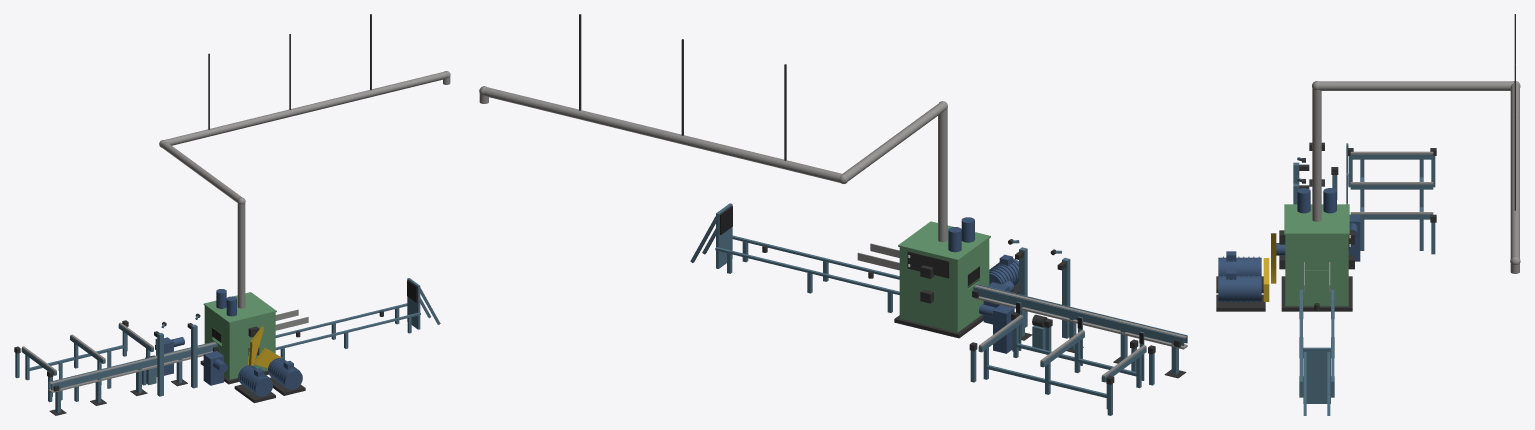
Rendered from gang_resaw_frame.glb.
3 views of the same model, side by side, from view 1: azimuth 30°, elevation 25°; view 2: azimuth 150°, elevation 25°; view 3: azimuth 270°, elevation 25° (orthographic). The views are drawn at different scales.
Parts seen in each view (by area): view 1: GR_FrameMesh; view 2: GR_FrameMesh; view 3: GR_FrameMesh.
Part boxes in pixels (x1,y1,x2,y2): GR_FrameMesh: [14, 14, 450, 415]; GR_FrameMesh: [479, 14, 1187, 415]; GR_FrameMesh: [1216, 14, 1520, 415].
Bounding box in the file's own units: 17.73 × 8.71 × 7.71.
